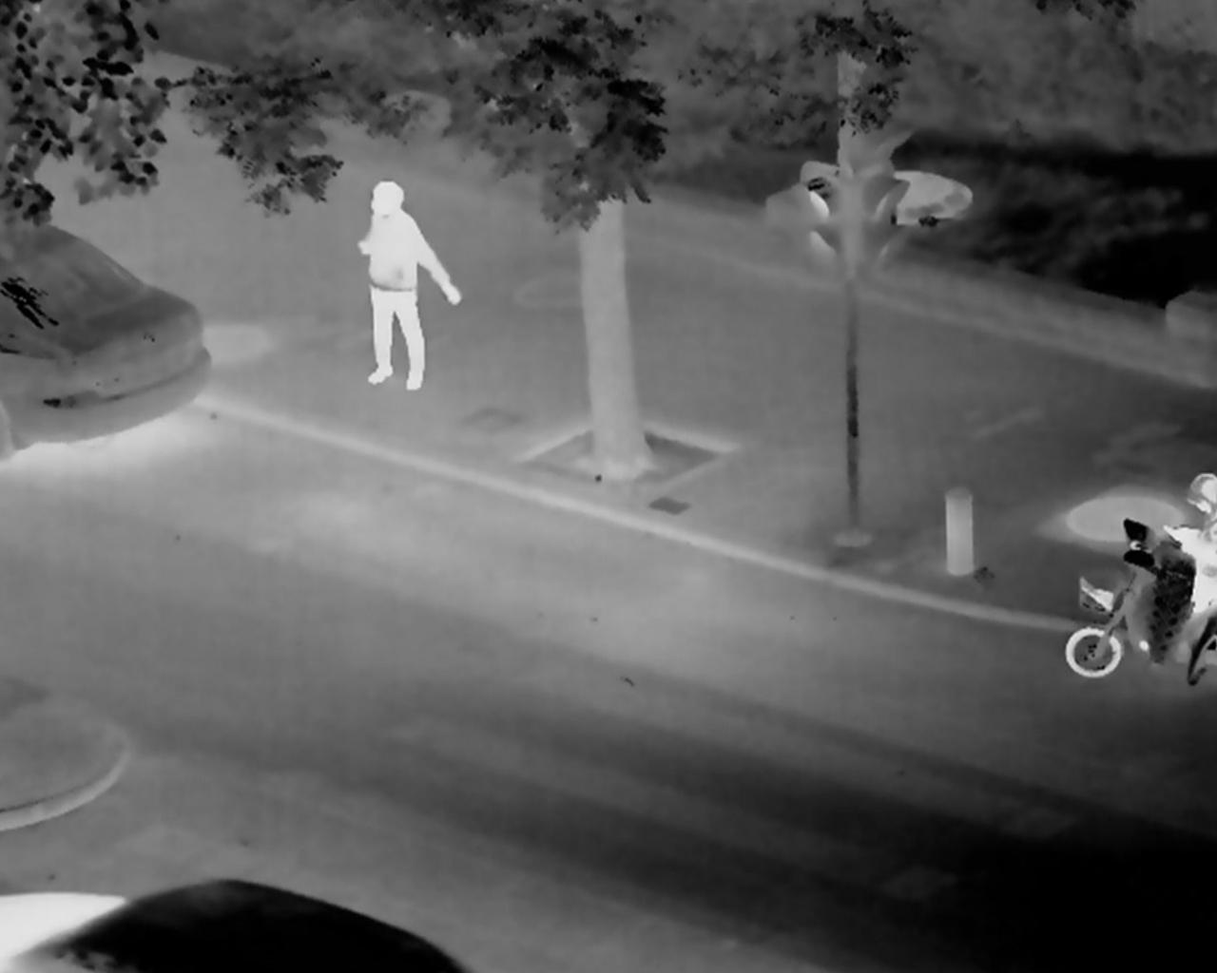person: (343, 171, 457, 416), (1164, 454, 1217, 629)
